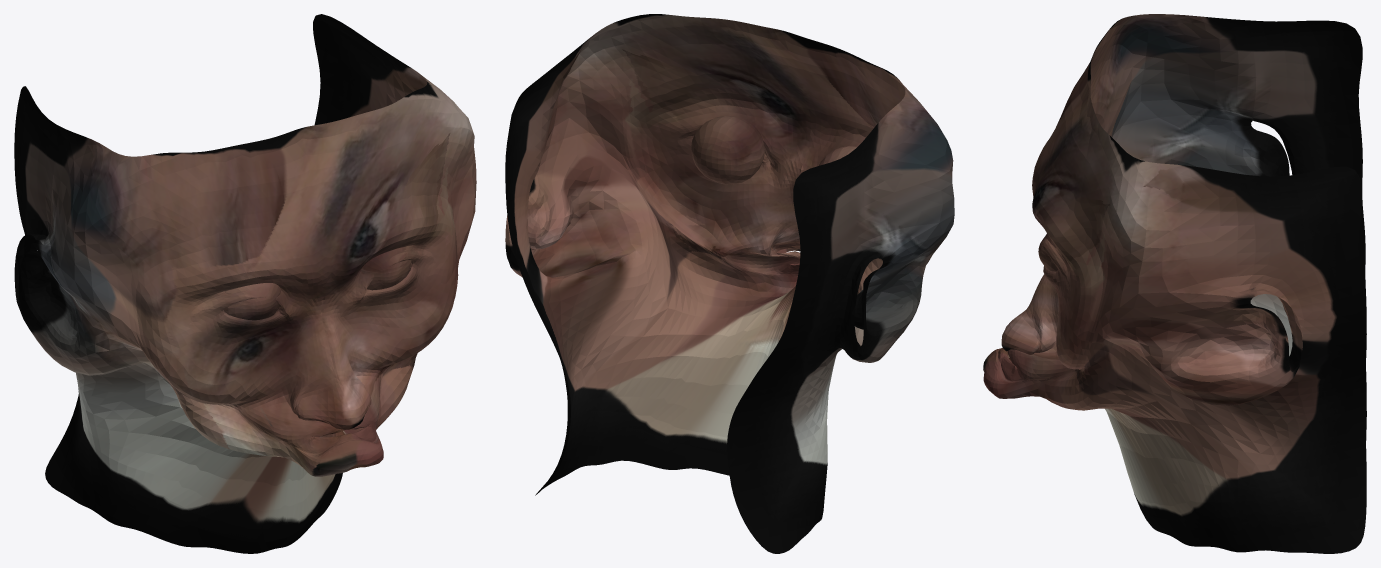
File: baseline.glb
3 views of the same model, side by side, from view 1: azimuth 30°, elevation 25°; view 2: azimuth 150°, elevation 25°; view 3: azimuth 270°, elevation 25° (orthographic). The views are drawn at different scales.
Visible parts, largest first — view 1: geometry_0; view 2: geometry_0; view 3: geometry_0.
Boxes of the visible parts, x1,y1,x2,y2 form: geometry_0: [14, 14, 476, 553]; geometry_0: [505, 14, 954, 553]; geometry_0: [983, 14, 1366, 553].
Size of the model in its own units: 0.1869 by 0.1976 by 0.1563.
1 material, 1 textured.
